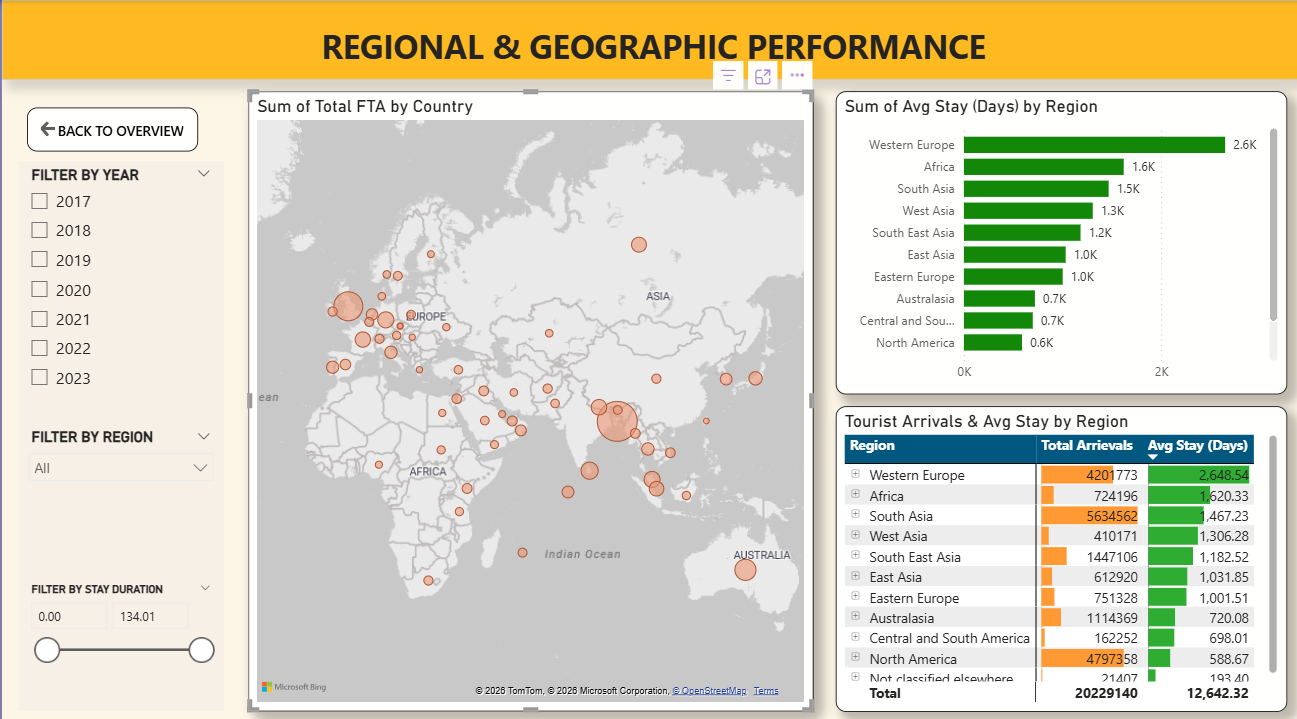

This screenshot's page, from the dashboard's own definition file:
{"tool":"powerbi","page":{"name":"Page 2","canvas":[1280,720],"ordinal":1},"visuals":[{"type":"textbox","box":[0,0,1279.8,78.5],"z":0},{"type":"barChart","fields":{"Category":["NDAP_REPORT_6619.Region"],"Y":["Sum(NDAP_REPORT_6619.Avg Stay (Days))"]},"box":[819,89.5,443.1,297.6],"z":1000},{"type":"pivotTable","title":"Tourist Arrivals & Avg Stay by Region","fields":{"Rows":["NDAP_REPORT_6619.Region","NDAP_REPORT_6619.Country"],"Values":["Sum(NDAP_REPORT_6619.Total FTA)","Sum(NDAP_REPORT_6619.Avg Stay (Days))"]},"box":[819,398.3,443.1,299.9],"z":2000},{"type":"map","fields":{"Category":["NDAP_REPORT_6619.Country"],"Size":["Sum(NDAP_REPORT_6619.Total FTA)"]},"box":[241.7,89.5,555,608.7],"z":3000},{"type":"slicer","title":"FILTER BY YEAR","fields":{"Values":["NDAP_REPORT_6619.Year"]},"box":[16,158.3,201.2,257.7],"z":4000},{"type":"slicer","fields":{"Values":["NDAP_REPORT_6619.Region"]},"box":[16,416,201.2,150.9],"z":5000},{"type":"slicer","fields":{"Values":["NDAP_REPORT_6619.Avg Stay (Days)"]},"box":[16,566.9,201.2,131.3],"z":6000},{"type":"actionButton","box":[24.5,105.5,168.1,42.9],"z":7000}]}

Visuals, with their boxes in screenshot pixels (x1, y1, x2, y2), scaled from the page's 1280x720 canvas onto the 1297x719 screenshot:
textbox: (left=0, top=0, right=1296, bottom=78)
barChart - NDAP_REPORT_6619.Region x Sum(NDAP_REPORT_6619.Avg Stay (Days)): (left=830, top=89, right=1279, bottom=387)
"Tourist Arrivals & Avg Stay by Region" pivotTable: (left=830, top=398, right=1279, bottom=697)
map - NDAP_REPORT_6619.Country x Sum(NDAP_REPORT_6619.Total FTA): (left=245, top=89, right=807, bottom=697)
"FILTER BY YEAR" slicer: (left=16, top=158, right=220, bottom=415)
slicer - NDAP_REPORT_6619.Region: (left=16, top=415, right=220, bottom=566)
slicer - NDAP_REPORT_6619.Avg Stay (Days): (left=16, top=566, right=220, bottom=697)
actionButton: (left=25, top=105, right=195, bottom=148)
